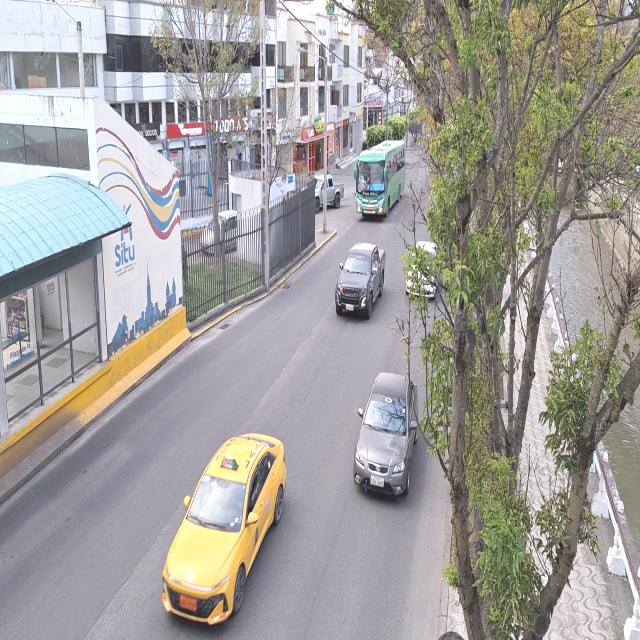BUS: (352, 141, 402, 219)
CMT: (333, 244, 388, 314)
SED: (166, 438, 284, 625), (358, 368, 419, 495)
